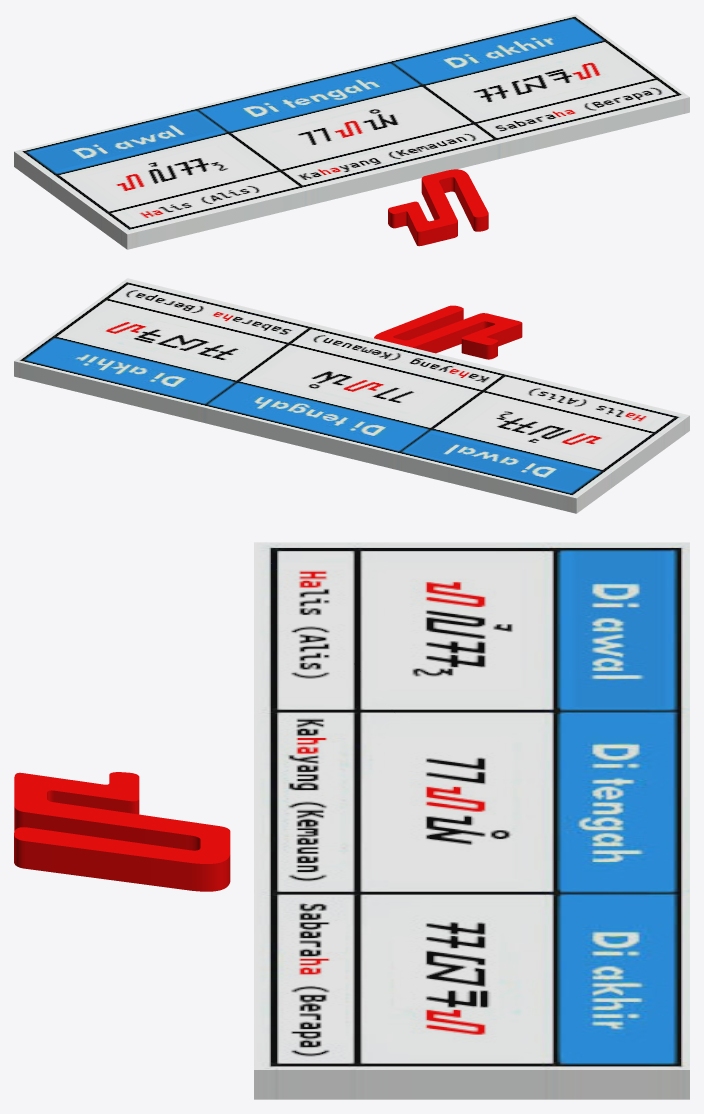
The picture shows the model from 3 angles, top to bottom: view 1: azimuth 30°, elevation 25°; view 2: azimuth 150°, elevation 25°; view 3: azimuth 270°, elevation 25°; orthographic projection. The views are drawn at different scales.
Visible parts, largest first — view 1: contoh-bunyi-huruf-ha-Ngalagena, Text; view 2: contoh-bunyi-huruf-ha-Ngalagena, Text; view 3: contoh-bunyi-huruf-ha-Ngalagena, Text.
Boxes of the visible parts, box(x1,y1,x2,y2) form: contoh-bunyi-huruf-ha-Ngalagena: box(14, 14, 689, 249); Text: box(388, 169, 488, 246); contoh-bunyi-huruf-ha-Ngalagena: box(14, 278, 689, 513); Text: box(374, 305, 522, 359); contoh-bunyi-huruf-ha-Ngalagena: box(254, 542, 689, 1099); Text: box(14, 772, 230, 891).
Size of the model in its own units: 2.86 by 0.11 by 1.55.
2 materials, 1 textured.
